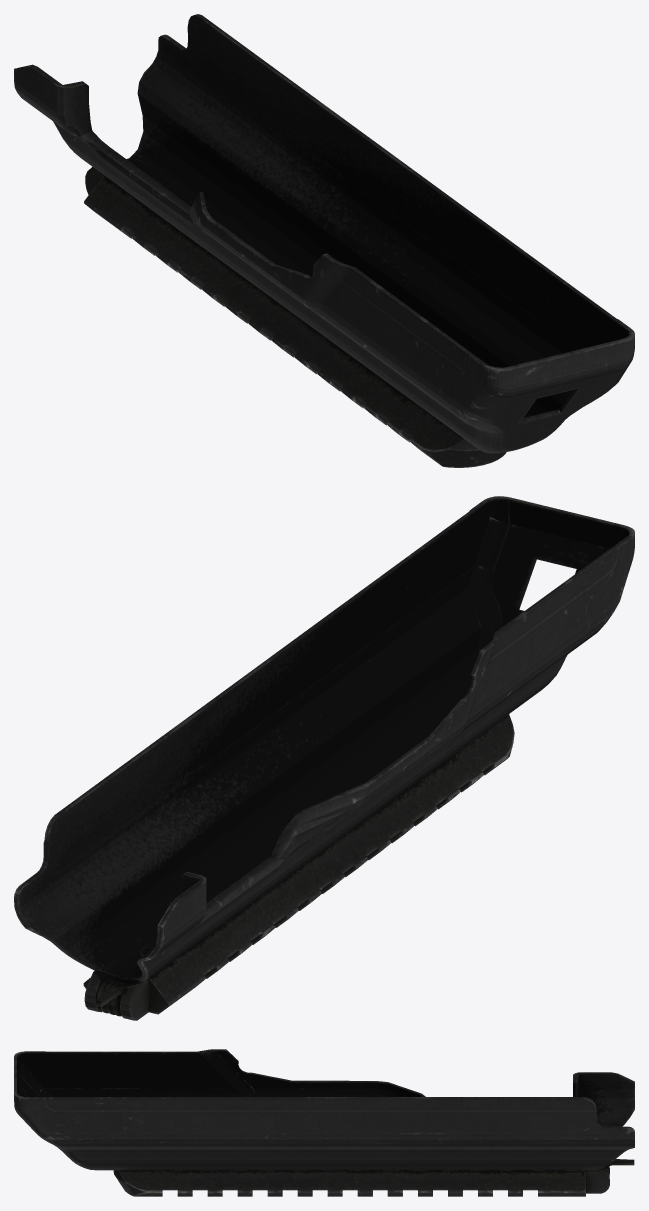
The picture shows the model from 3 angles, top to bottom: view 1: azimuth 30°, elevation 25°; view 2: azimuth 150°, elevation 25°; view 3: azimuth 270°, elevation 25°; orthographic projection. The views are drawn at different scales.
Visible parts, largest first — view 1: TW_59985a6c86f77414ec448d17_PZ_Import; view 2: TW_59985a6c86f77414ec448d17_PZ_Import; view 3: TW_59985a6c86f77414ec448d17_PZ_Import.
Boxes of the visible parts, x1,y1,x2,y2 form: TW_59985a6c86f77414ec448d17_PZ_Import: (14,14,634,467); TW_59985a6c86f77414ec448d17_PZ_Import: (14,496,634,1020); TW_59985a6c86f77414ec448d17_PZ_Import: (14,1049,634,1196).
Bounding box in the file's own units: 0.0224 × 0.1196 × 0.0237.
1 material, 1 textured.
